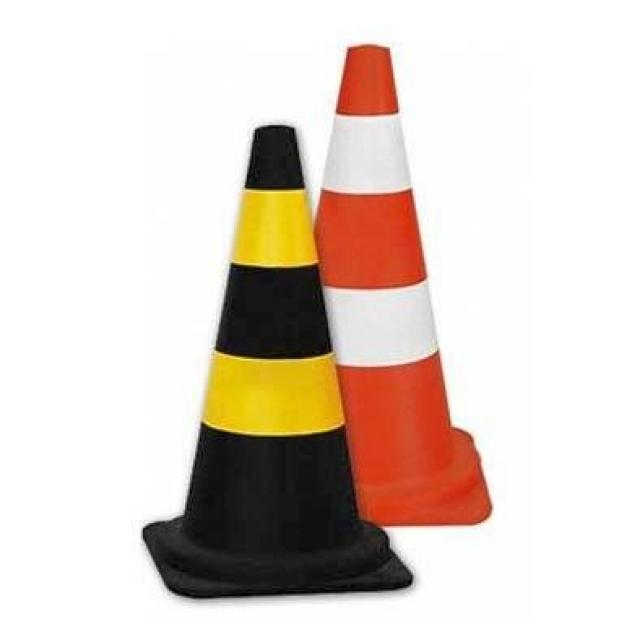cone: (152, 119, 410, 586)
